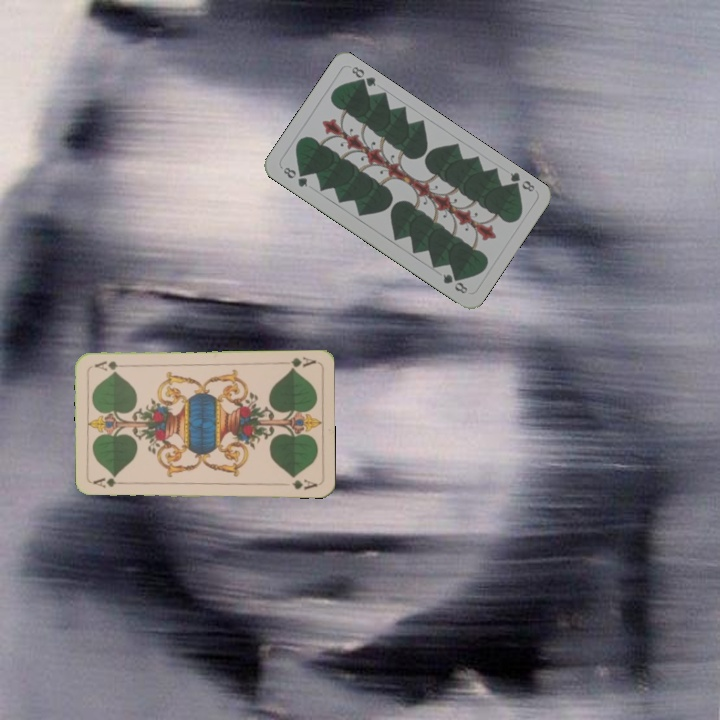G8: (279, 163, 310, 190), (505, 168, 537, 194)
GA: (278, 353, 318, 373), (90, 475, 130, 491)
